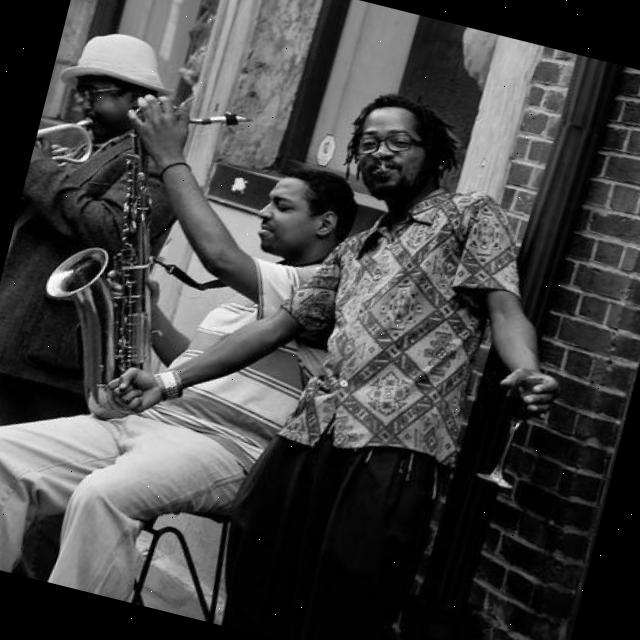saxophone: (17, 77, 253, 440)
